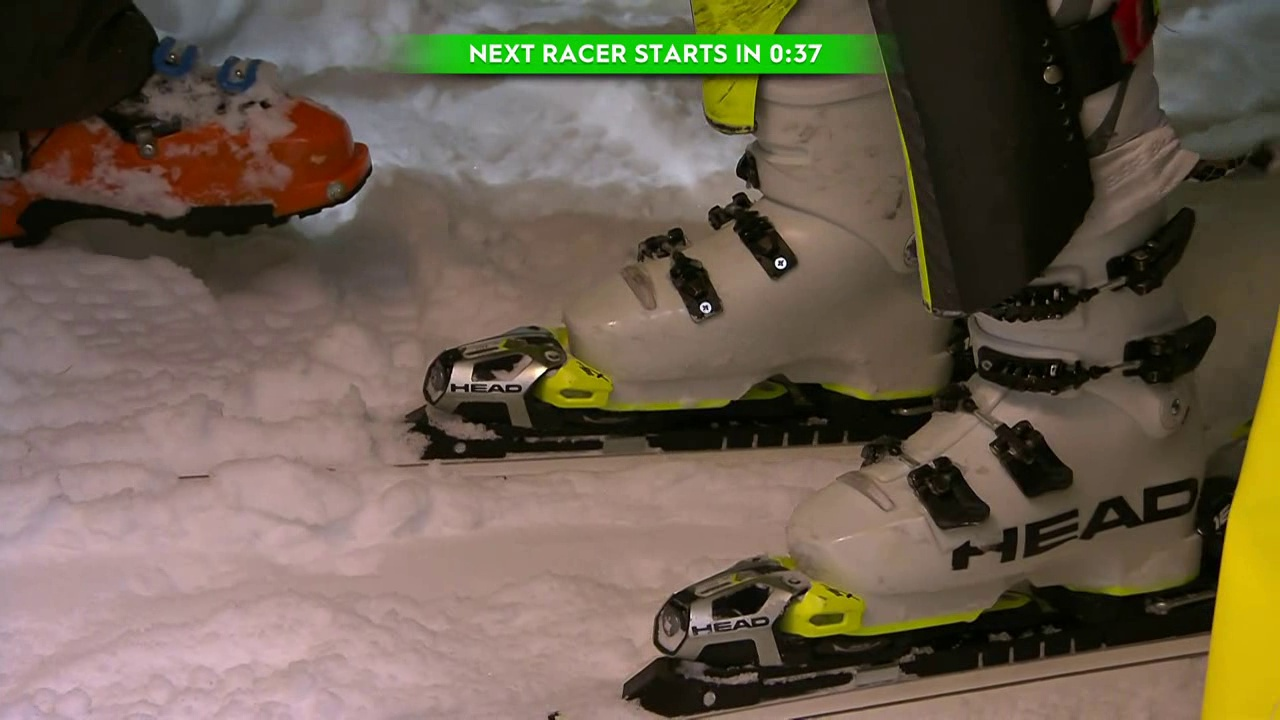audi: (686, 610, 777, 641)
